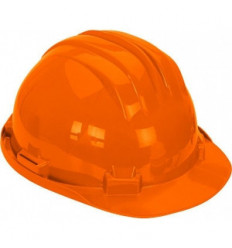casco: (1, 28, 232, 220)
